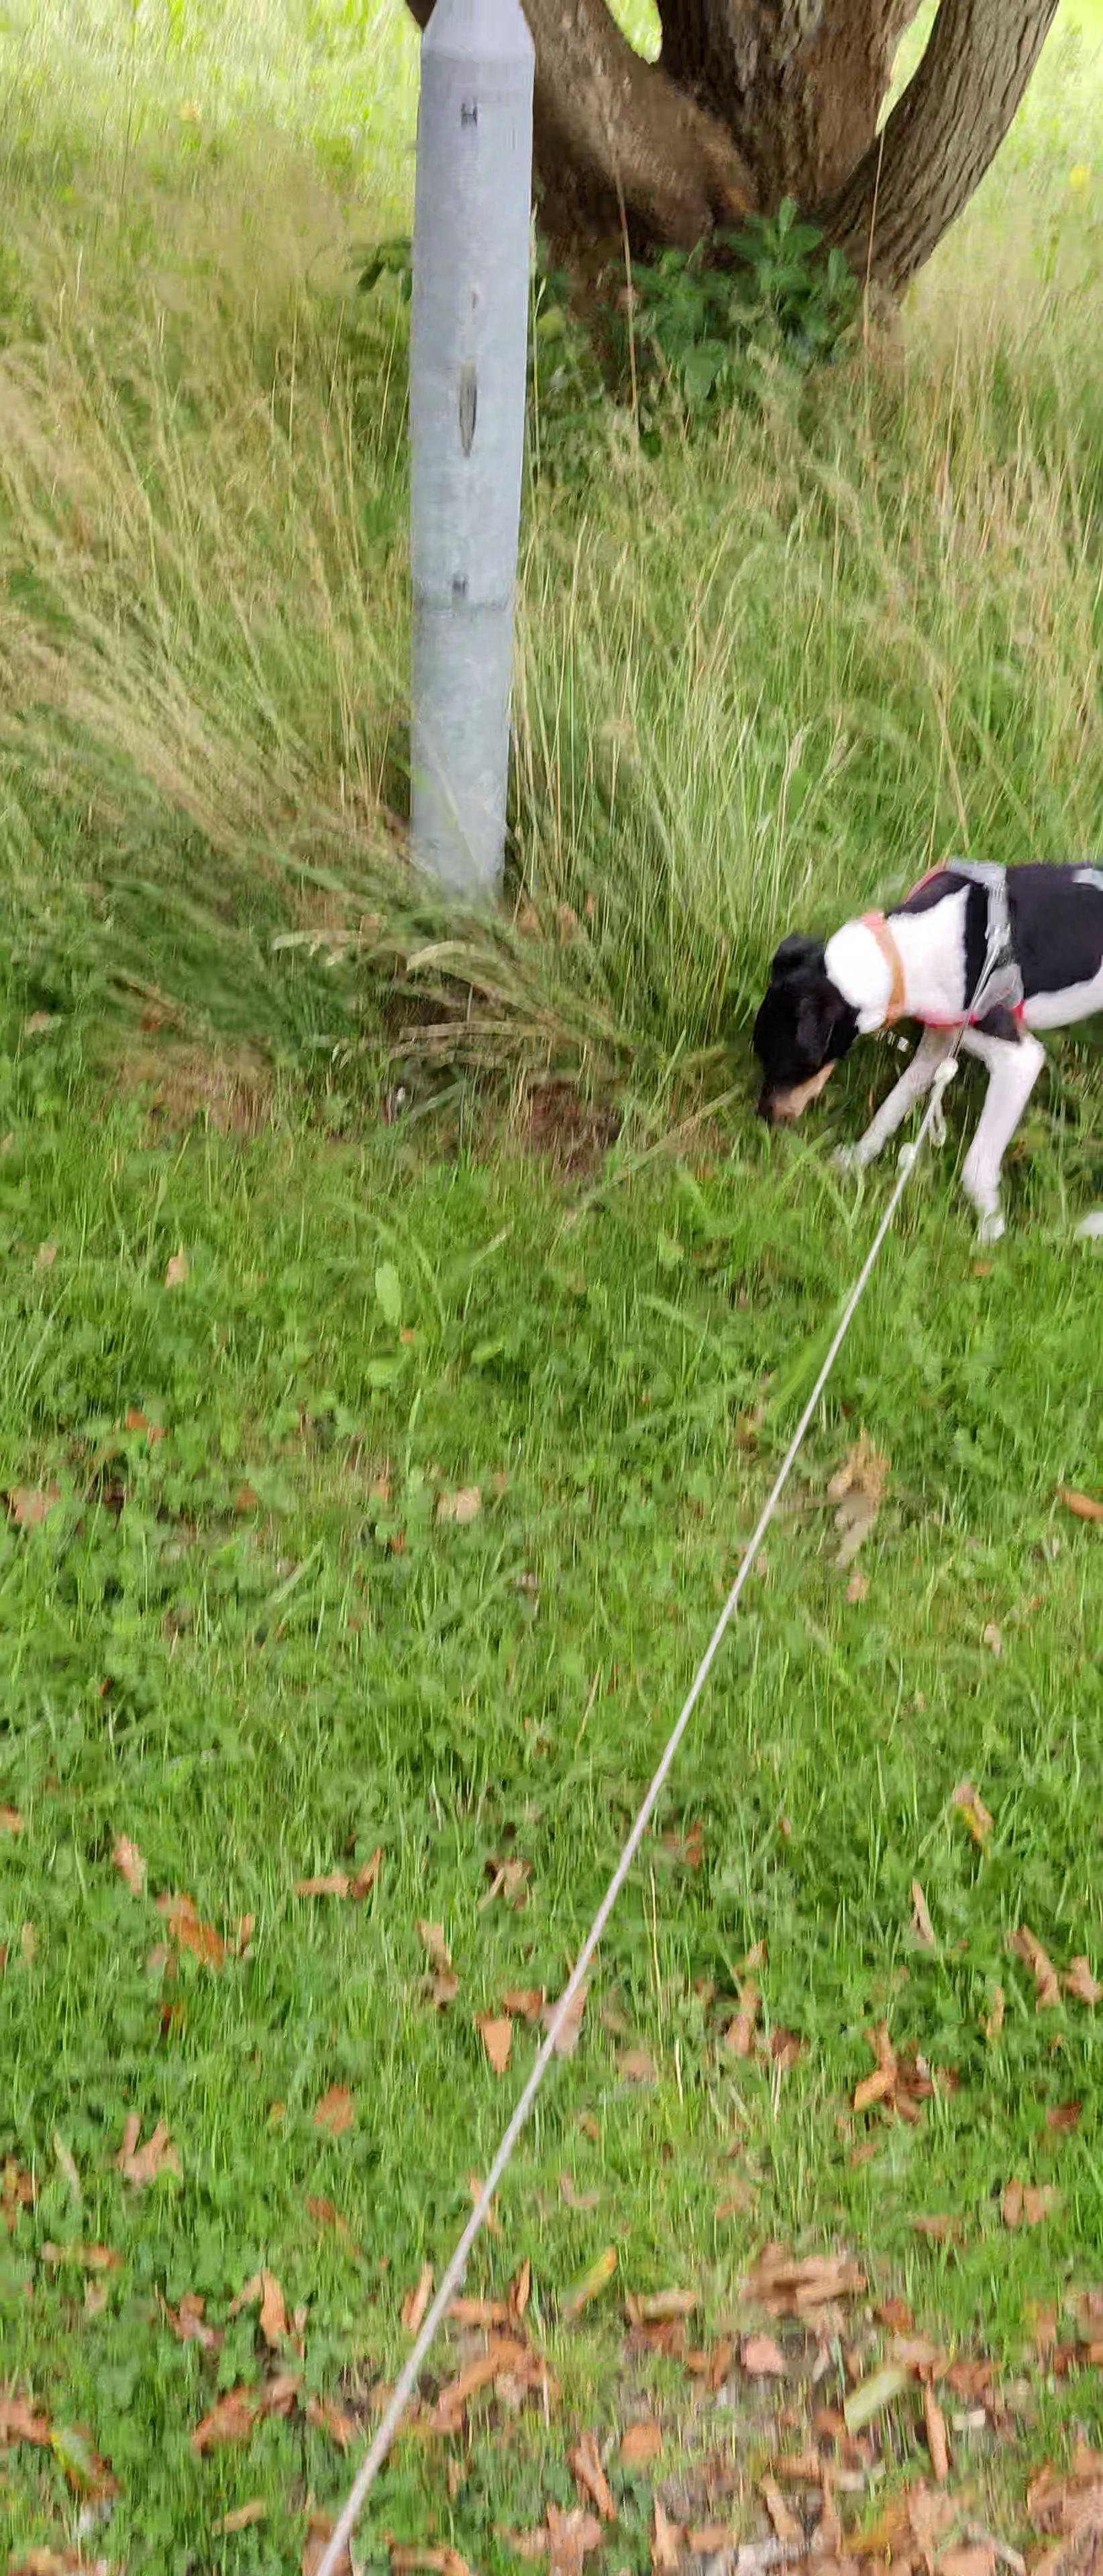Dog: (736, 849, 1103, 1244)
